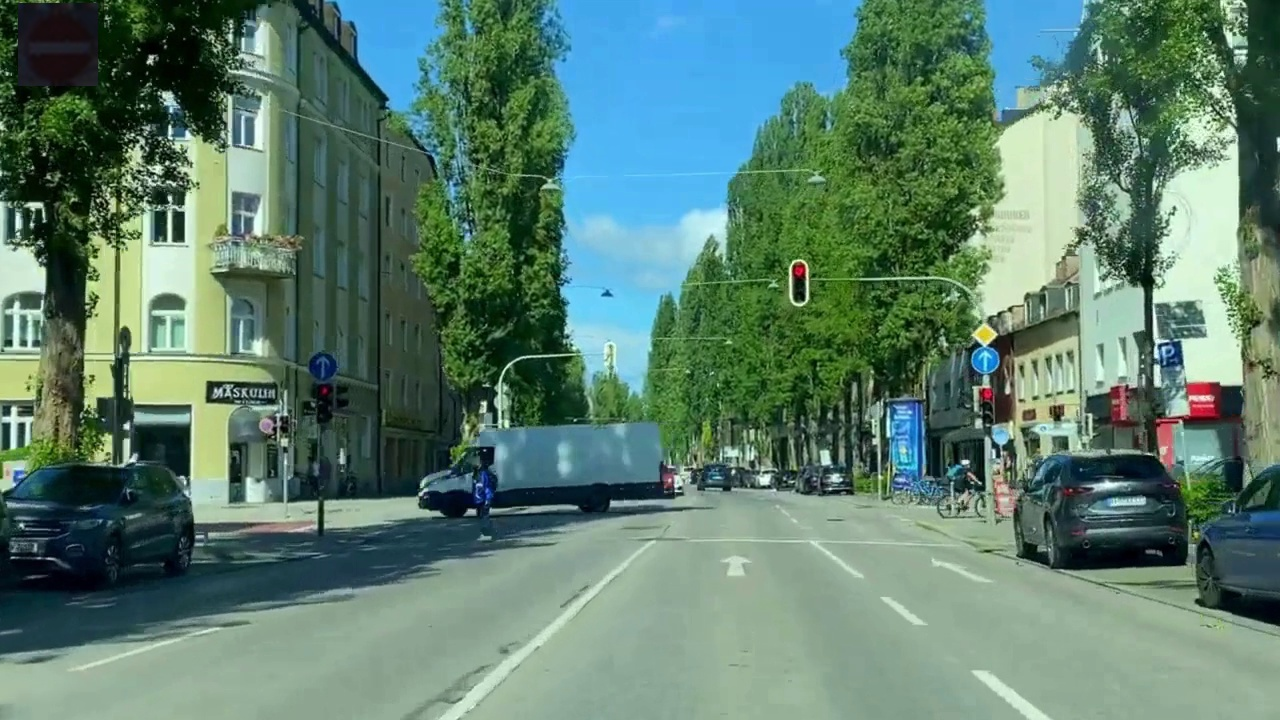No entry: (18, 3, 98, 86)
